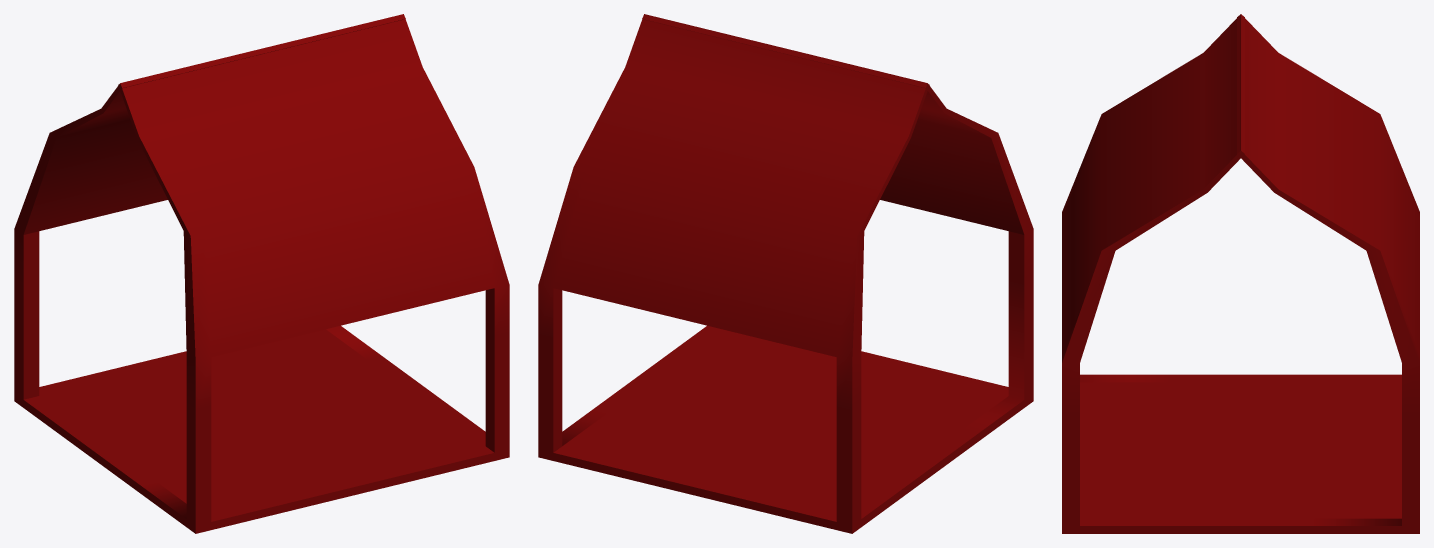
The model's file is barnMesh.fbx.
3 renders of one model, left to right at view 1: azimuth 30°, elevation 25°; view 2: azimuth 150°, elevation 25°; view 3: azimuth 270°, elevation 25°, orthographic.
Parts seen in each view (by area): view 1: mesh_barn; view 2: mesh_barn; view 3: mesh_barn.
Boxes of the visible parts, x1=… form: mesh_barn: x1=14, y1=14, x2=509, y2=533; mesh_barn: x1=538, y1=14, x2=1033, y2=533; mesh_barn: x1=1062, y1=14, x2=1419, y2=533.
Bounding box in the file's own units: 1000 × 1159 × 1000.
